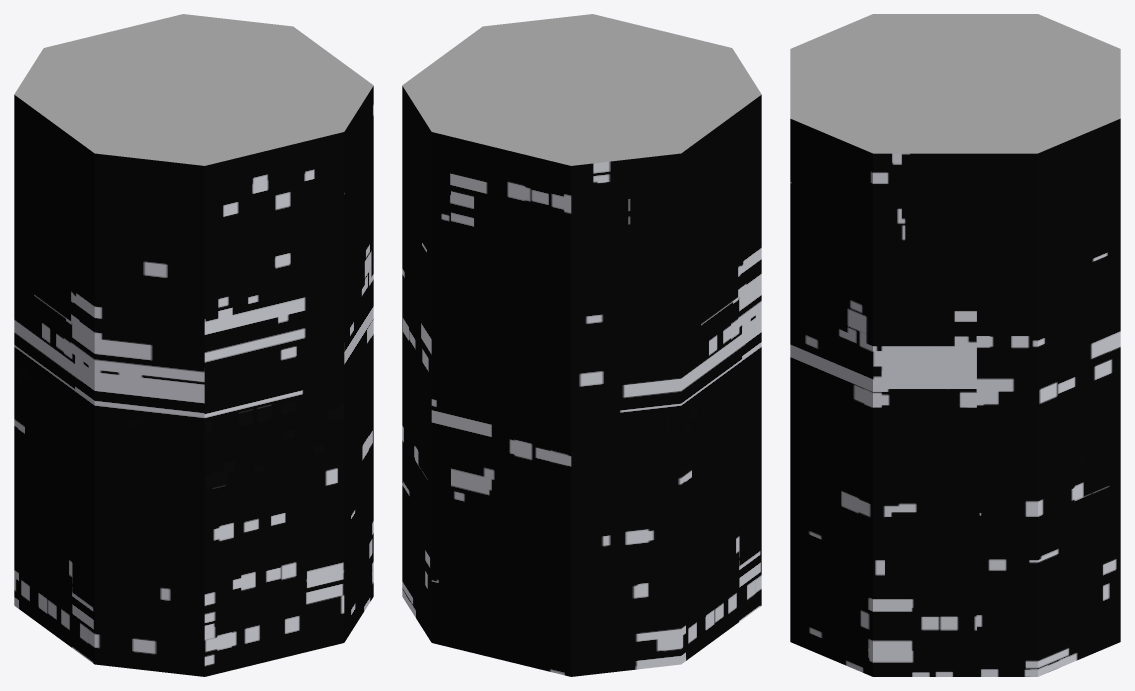
File: Building03.fbx
The picture shows the model from 3 angles, left to right: view 1: azimuth 30°, elevation 25°; view 2: azimuth 150°, elevation 25°; view 3: azimuth 270°, elevation 25°; orthographic projection. The views are drawn at different scales.
Visible parts, largest first — view 1: Building03; view 2: Building03; view 3: Building03.
Boxes of the visible parts, x1,y1,x2,y2 form: Building03: (14,14,373,676); Building03: (402,14,761,676); Building03: (790,14,1120,676).
Bounding box in the file's own units: 0.4076 × 0.7132 × 0.4076.
